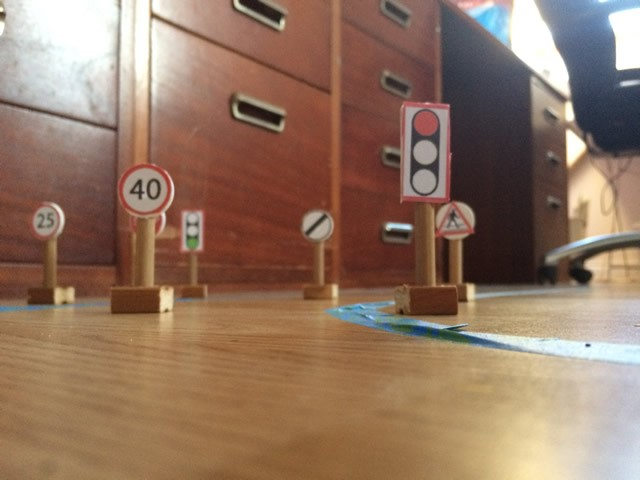Green Traffic Light: (182, 210, 204, 251)
Red Traffic Light: (399, 103, 451, 201)
Speed Limit 25: (28, 201, 68, 237)
Speed Limit 40: (117, 165, 175, 213)
Speed Limit 60: (300, 210, 335, 242)
